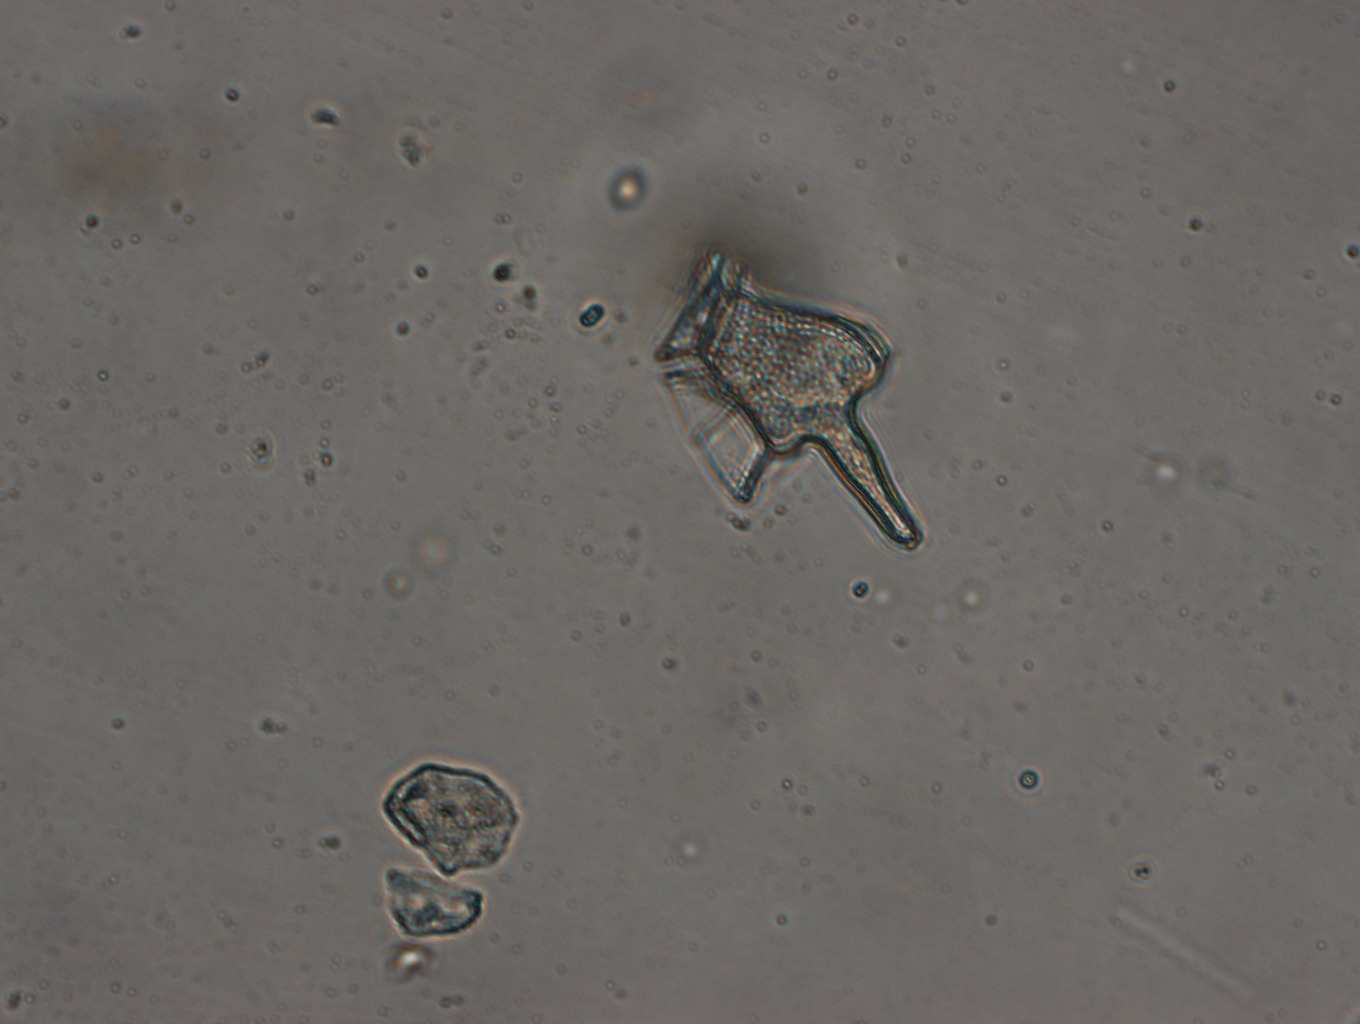dinophysis caudata: (649, 247, 929, 556)
